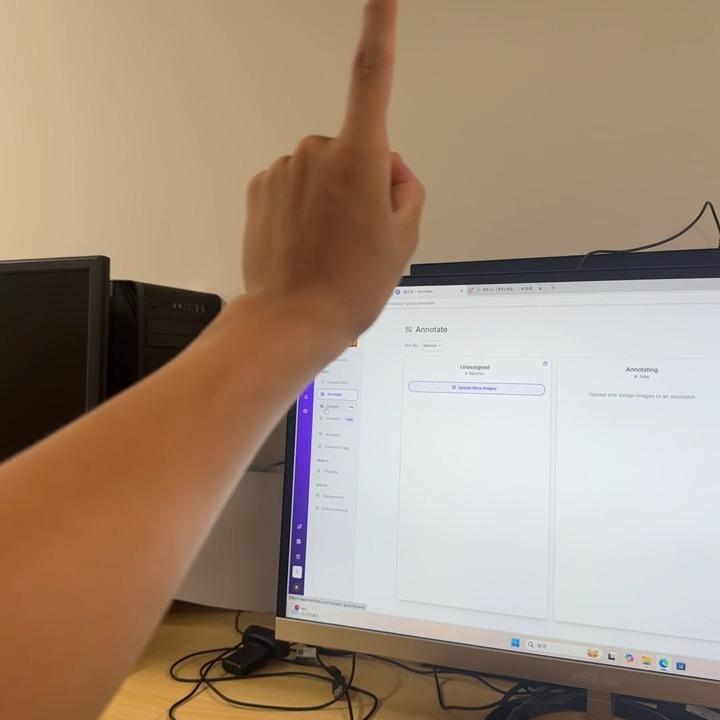without_gloves: (194, 0, 492, 384)
